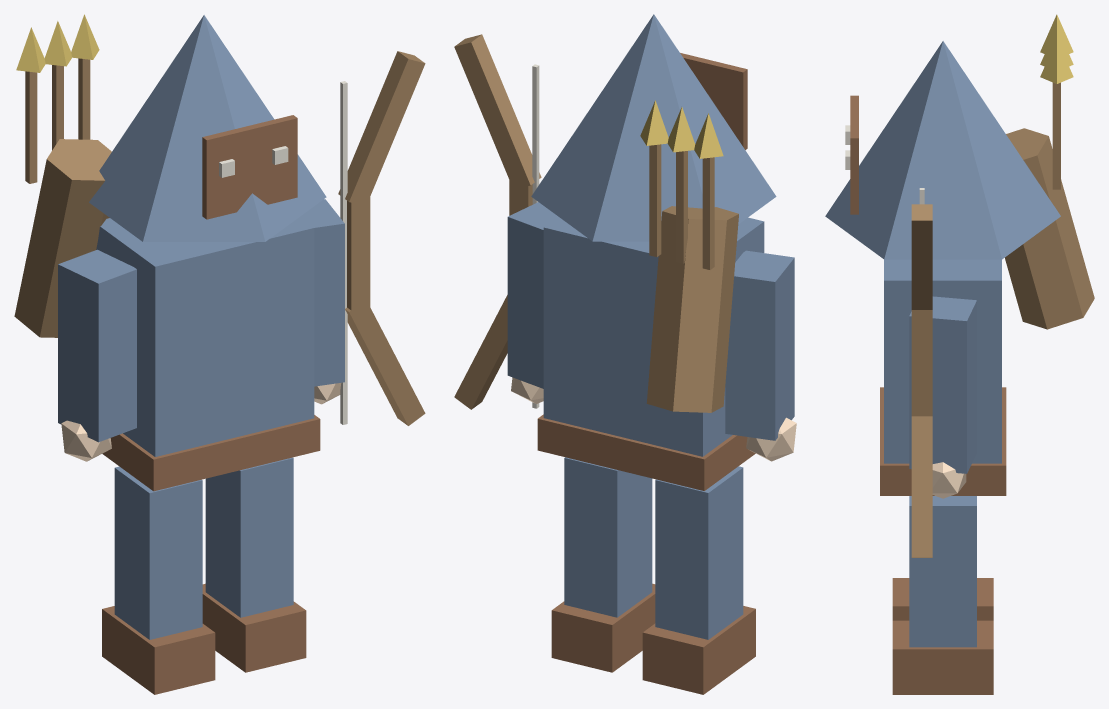
Rendered from archer.glb.
3 views of the same model, side by side, from view 1: azimuth 30°, elevation 25°; view 2: azimuth 150°, elevation 25°; view 3: azimuth 270°, elevation 25° (orthographic). The views are drawn at different scales.
Parts seen in each view (by area): view 1: torso, hood, arm_l.002, leg_l.002, leg_r.002, quiver, shade, belt.001, boot_l.001, arm_r.002, boot_r.001, bow_top (+10 smaller); view 2: torso, hood, quiver, leg_l.002, leg_r.002, arm_l.002, belt.001, arm_r.002, boot_l.001, boot_r.001, bow_top, shade (+11 smaller); view 3: hood, torso, leg_r.002, quiver, arm_r.002, boot_r.001, belt.001, bow_low, bow_grip, bow_top, boot_l.001, shade (+3 smaller).
Part boxes in pixels (box(x1,y1,x2,y2)): torso: box(96, 217, 314, 456); hood: box(89, 15, 326, 241); arm_l.002: box(58, 249, 136, 442); leg_l.002: box(114, 466, 202, 639); leg_r.002: box(205, 457, 293, 617); quiver: box(14, 139, 111, 337); shade: box(202, 115, 297, 219); belt.001: box(102, 415, 320, 491); boot_l.001: box(102, 606, 215, 694); arm_r.002: box(300, 199, 344, 386); boot_r.001: box(202, 583, 306, 672); bow_top: box(338, 51, 425, 206); torso: box(543, 216, 764, 456); hood: box(531, 14, 776, 241); quiver: box(646, 206, 738, 412); leg_l.002: box(655, 466, 743, 639); leg_r.002: box(564, 457, 652, 617); arm_l.002: box(725, 250, 794, 440); belt.001: box(537, 414, 755, 490); arm_r.002: box(507, 202, 557, 388); boot_l.001: box(642, 606, 755, 694); boot_r.001: box(551, 583, 655, 672); bow_top: box(454, 34, 541, 187); shade: box(680, 53, 747, 149); hood: box(825, 41, 1060, 259); torso: box(884, 259, 1001, 463); leg_r.002: box(909, 496, 976, 647); quiver: box(1005, 128, 1094, 329); arm_r.002: box(909, 296, 976, 473); boot_r.001: box(892, 620, 993, 694); belt.001: box(880, 387, 1006, 495); bow_low: box(911, 416, 932, 557); bow_grip: box(911, 310, 932, 416); bow_top: box(911, 204, 932, 309); boot_l.001: box(892, 578, 993, 620); shade: box(850, 95, 858, 214).
Size of the model in its own units: 0.9089 by 1.62 by 0.64.
